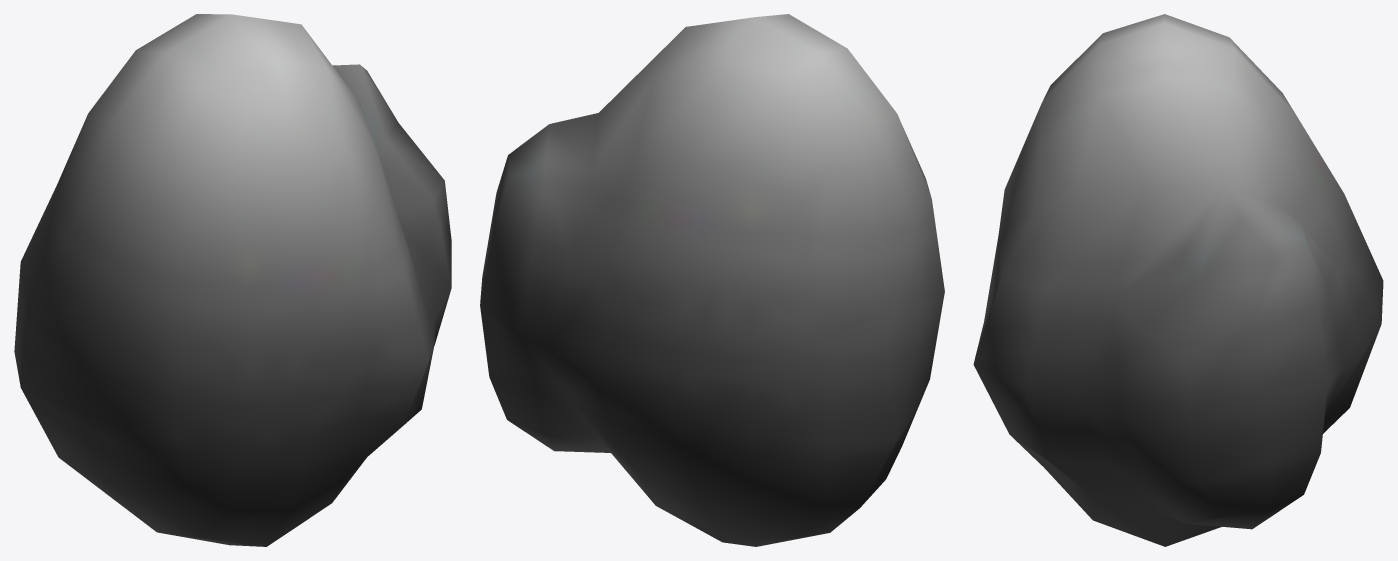
Rendered from M_Environment_StoneSS_02.fbx.
3 renders of one model, left to right at view 1: azimuth 30°, elevation 25°; view 2: azimuth 150°, elevation 25°; view 3: azimuth 270°, elevation 25°, orthographic. The views are drawn at different scales.
Visible parts, largest first — view 1: M_Environment_StoneSS_02; view 2: M_Environment_StoneSS_02; view 3: M_Environment_StoneSS_02.
Part boxes in pixels (x1,y1,x2,y2): M_Environment_StoneSS_02: [14, 14, 451, 546]; M_Environment_StoneSS_02: [480, 14, 944, 546]; M_Environment_StoneSS_02: [973, 14, 1383, 546].
Bounding box in the file's own units: 127 × 158 × 113.
1 material, 1 textured.
